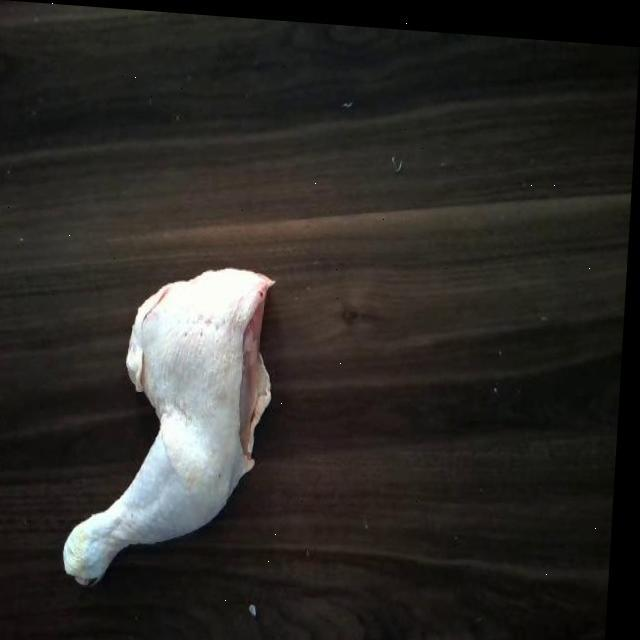quater: (48, 242, 302, 594)
